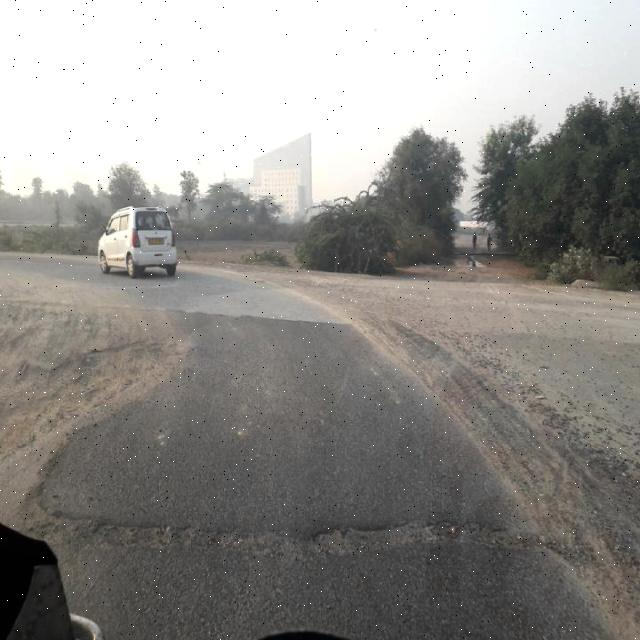D10: (58, 502, 543, 556)
D40: (3, 294, 197, 473)
